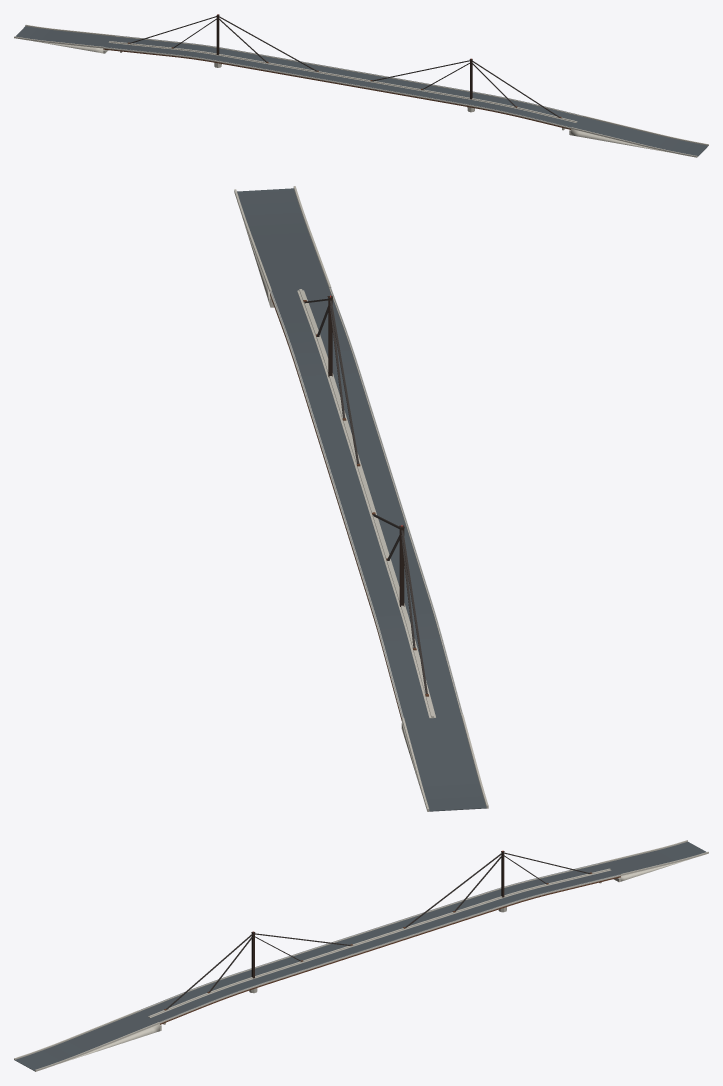
Rendered from pont-papineau-leblanc-far.glb.
3 renders of one model, top to bottom at view 1: azimuth 30°, elevation 25°; view 2: azimuth 150°, elevation 25°; view 3: azimuth 270°, elevation 25°, orthographic. The views are drawn at different scales.
Visible parts, largest first — view 1: pont-papineau-leblanc-0-asphalt, pont-papineau-leblanc-0-concrete, pont-papineau-leblanc-0-cable, pont-papineau-leblanc-0-pole, pont-papineau-leblanc-0-steel, pont-papineau-leblanc-0-pylon; view 2: pont-papineau-leblanc-0-asphalt, pont-papineau-leblanc-0-concrete, pont-papineau-leblanc-0-cable, pont-papineau-leblanc-0-pole; view 3: pont-papineau-leblanc-0-asphalt, pont-papineau-leblanc-0-concrete, pont-papineau-leblanc-0-cable, pont-papineau-leblanc-0-pole, pont-papineau-leblanc-0-steel.
Part boxes in pixels (bbox=[...]): pont-papineau-leblanc-0-asphalt: bbox=[15, 26, 708, 156]; pont-papineau-leblanc-0-concrete: bbox=[14, 24, 708, 157]; pont-papineau-leblanc-0-cable: bbox=[129, 16, 559, 117]; pont-papineau-leblanc-0-pole: bbox=[103, 35, 582, 127]; pont-papineau-leblanc-0-steel: bbox=[103, 42, 570, 129]; pont-papineau-leblanc-0-pylon: bbox=[216, 14, 472, 99]; pont-papineau-leblanc-0-asphalt: bbox=[237, 188, 486, 811]; pont-papineau-leblanc-0-concrete: bbox=[234, 186, 488, 811]; pont-papineau-leblanc-0-cable: bbox=[304, 298, 427, 693]; pont-papineau-leblanc-0-pole: bbox=[270, 287, 462, 717]; pont-papineau-leblanc-0-asphalt: bbox=[15, 842, 705, 1071]; pont-papineau-leblanc-0-concrete: bbox=[14, 840, 708, 1071]; pont-papineau-leblanc-0-cable: bbox=[166, 852, 590, 1009]; pont-papineau-leblanc-0-pole: bbox=[139, 863, 620, 1021]; pont-papineau-leblanc-0-steel: bbox=[160, 872, 620, 1024].
Bounding box in the file's own units: 418 × 50.85 × 533.
